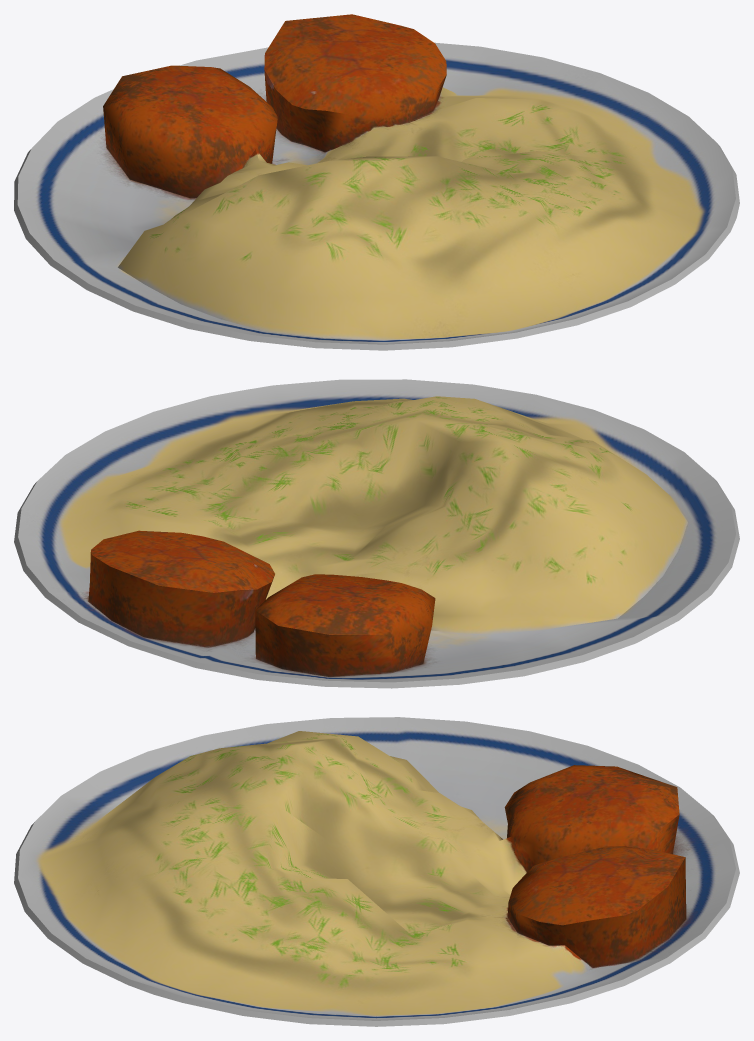
The model's file is food.glb.
3 views of the same model, one above another, from view 1: azimuth 30°, elevation 25°; view 2: azimuth 150°, elevation 25°; view 3: azimuth 270°, elevation 25° (orthographic).
Parts seen in each view (by area): view 1: Food_uv_polySurface1; view 2: Food_uv_polySurface1; view 3: Food_uv_polySurface1.
Part boxes in pixels (left/top/right/bottom): Food_uv_polySurface1: left=14, top=14, right=739, bottom=350; Food_uv_polySurface1: left=14, top=379, right=739, bottom=688; Food_uv_polySurface1: left=14, top=717, right=739, bottom=1026.
Size of the model in its own units: 2 by 0.3799 by 2.
1 material, 1 textured.
